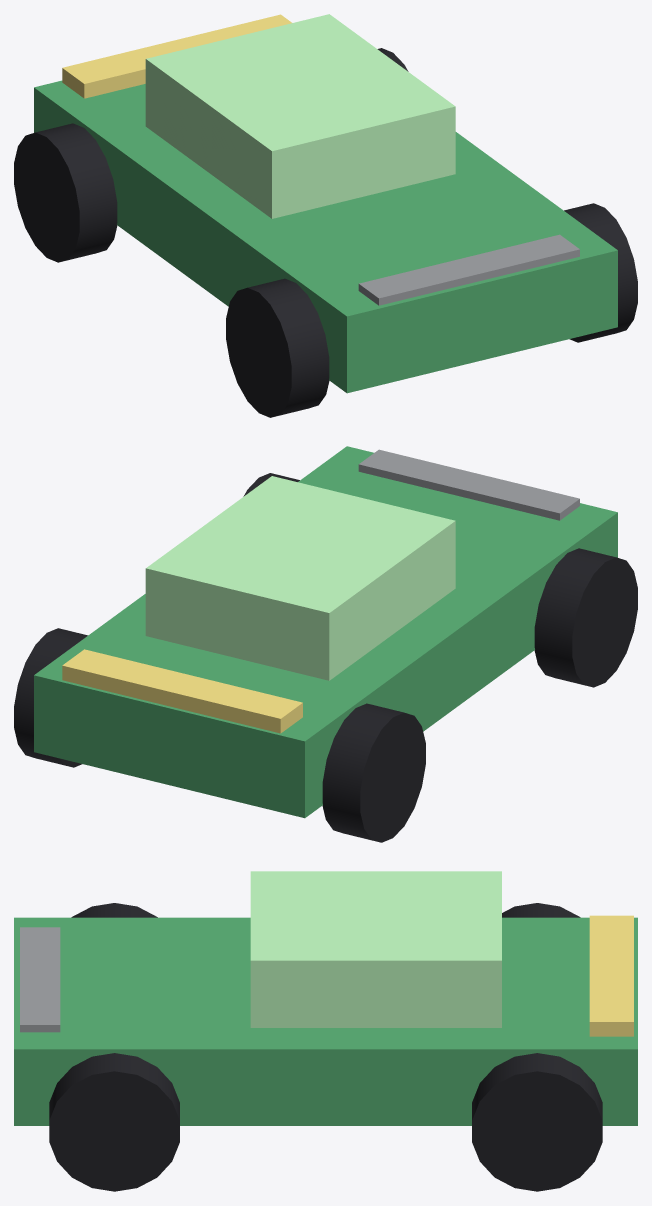
Rendered from convoy_car.glb.
3 views of the same model, one above another, from view 1: azimuth 30°, elevation 25°; view 2: azimuth 150°, elevation 25°; view 3: azimuth 270°, elevation 25° (orthographic).
Parts seen in each view (by area): view 1: convoy_car; view 2: convoy_car; view 3: convoy_car.
Part boxes in pixels (left/top/right/bottom): convoy_car: left=14, top=14, right=637, bottom=417; convoy_car: left=14, top=446, right=637, bottom=842; convoy_car: left=14, top=871, right=637, bottom=1191.
Bounding box in the file's own units: 1.98 × 1.05 × 3.1.
